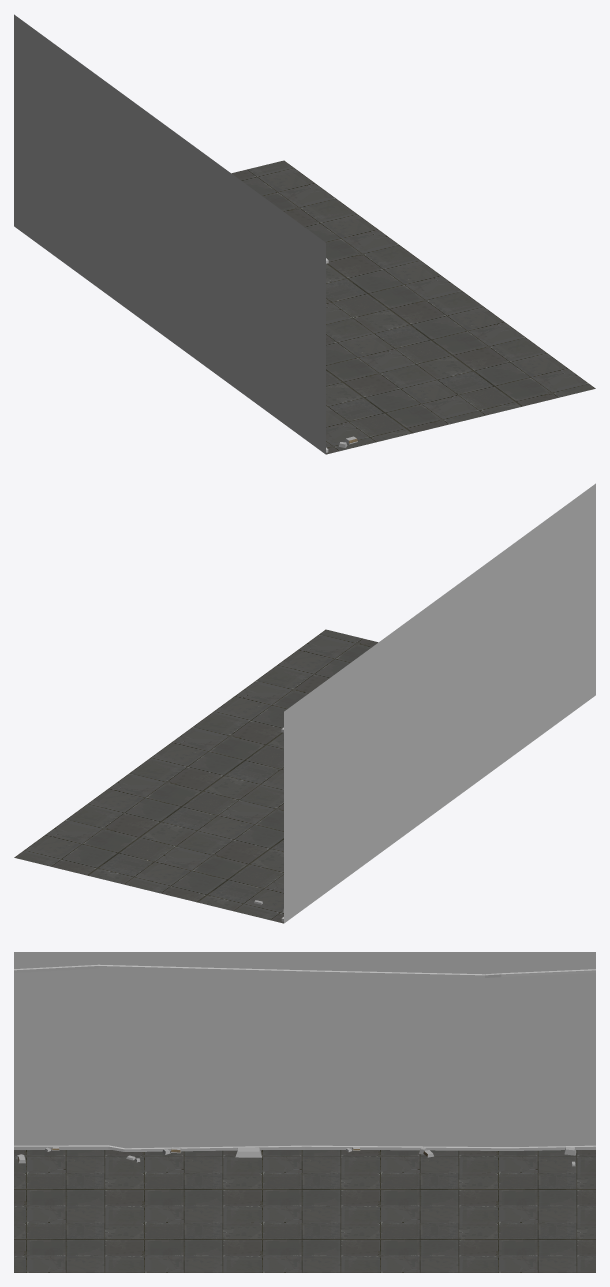
Rendered from bz_room_01.fbx.
3 renders of one model, top to bottom at view 1: azimuth 30°, elevation 25°; view 2: azimuth 150°, elevation 25°; view 3: azimuth 270°, elevation 25°, orthographic. The views are drawn at different scales.
Parts seen in each view (by area): view 1: bz_room_01; view 2: bz_room_01; view 3: bz_room_01.
Part boxes in pixels (x1,y1,x2,y2): bz_room_01: (14,14,595,454); bz_room_01: (14,483,595,923); bz_room_01: (14,952,595,1272).
Bounding box in the file's own units: 4 × 3 × 8.
